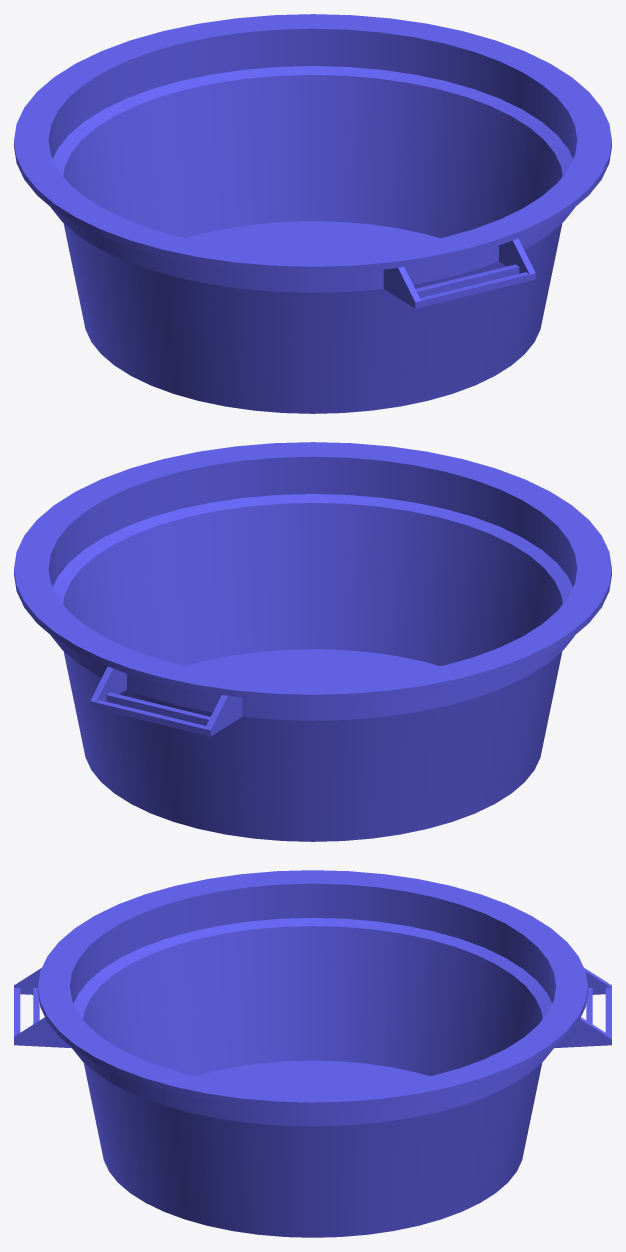
The model's file is tub_blue.dae.
3 renders of one model, top to bottom at view 1: azimuth 30°, elevation 25°; view 2: azimuth 150°, elevation 25°; view 3: azimuth 270°, elevation 25°, orthographic. The views are drawn at different scales.
Visible parts, largest first — view 1: group_0 (×2); view 2: group_0 (×2); view 3: group_0 (×2).
Part boxes in pixels (x1,y1,x2,y2): group_0 (×2): [14, 14, 611, 413]; group_0 (×2): [14, 442, 611, 841]; group_0 (×2): [14, 870, 611, 1237].
Bounding box in the file's own units: 21.5 × 23.38 × 7.
